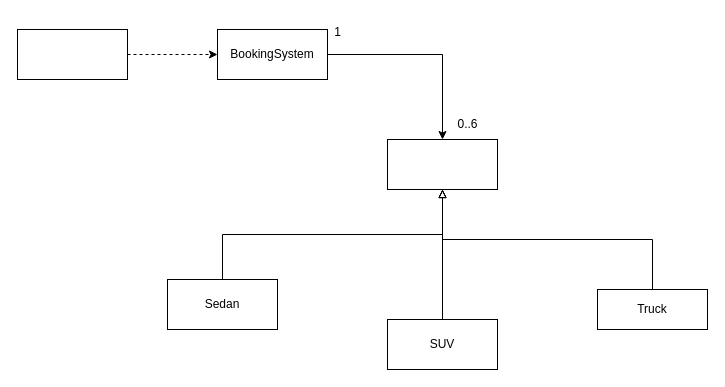
The diagram is 725 pixels wide and 387 high, and some of its shapes have lost their labels. Each missing label, with the box of its shape:
Application: (16, 28, 128, 80)
Vehicle: (386, 138, 498, 190)
